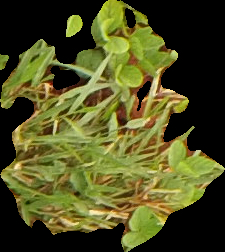grass: (1, 1, 224, 250)
